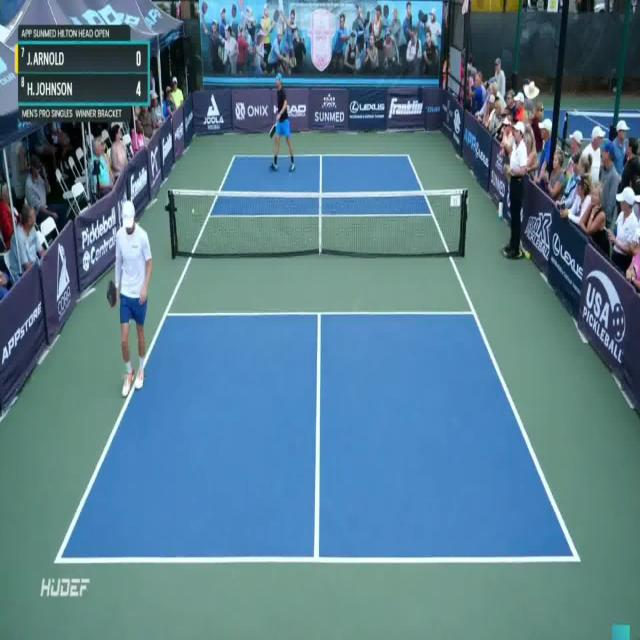Court: (53, 154, 582, 563)
ball: (191, 206, 196, 212)
